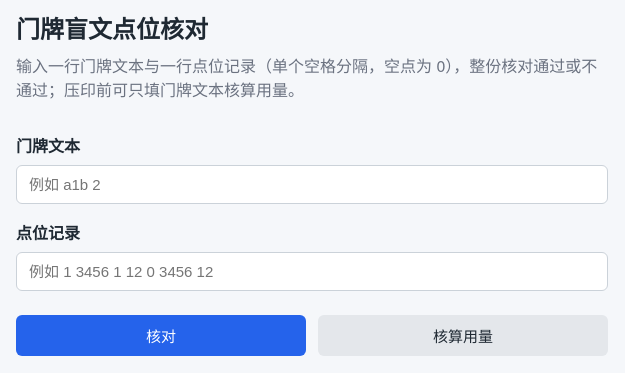
Scenario: App 核算用量 › 核算请求返回前修改门牌文本，过期结果被丢弃且用量保持清空
The image size is (625, 373).
Type "abc" into the field with test id "text-input" at (312, 184), box [16,165,608,204]
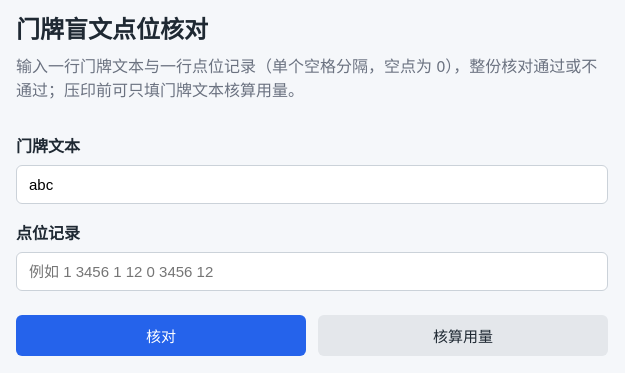
Click the button with test id "usage-submit" at (463, 336), box [318,315,608,356]
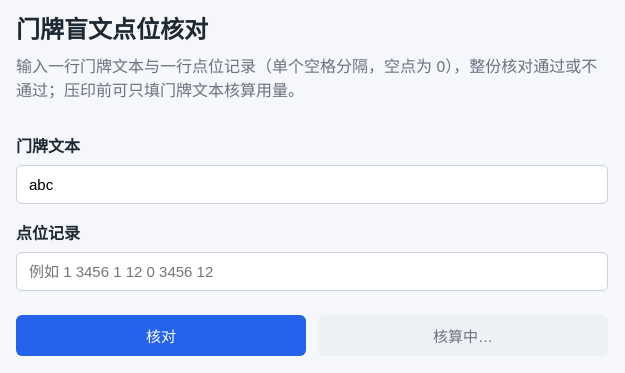
// 请求在途期间修改门牌文本
Replace the text in the field with test id "text-input" with "abcd" at (312, 184), box [16,165,608,204]
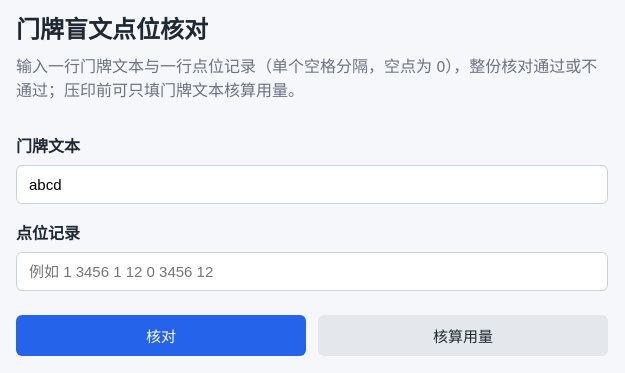
Now the button with test id "usage-submit" is enabled, box [318,315,608,356]
